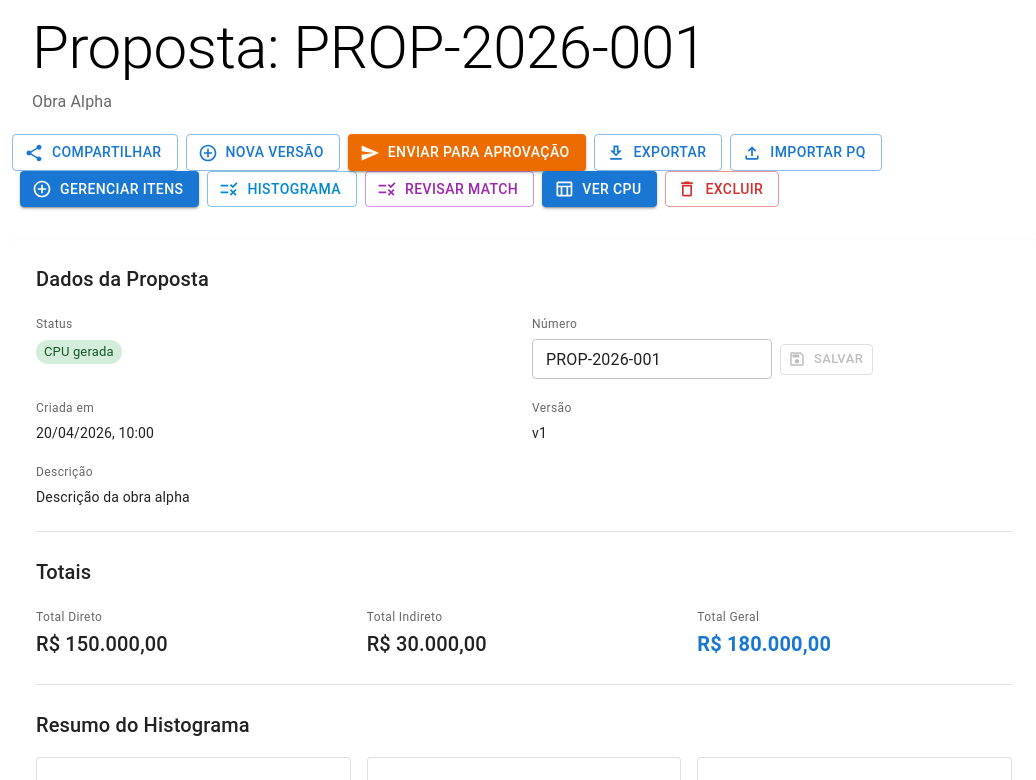
Test: ProposalDetailPage › erro de export exibe Alert/Snackbar
Expected: the heading "Proposta: PROP-2026-001" is shown, [32,12,707,84]
Click the button "Exportar": (658, 153) [594,134,722,171]
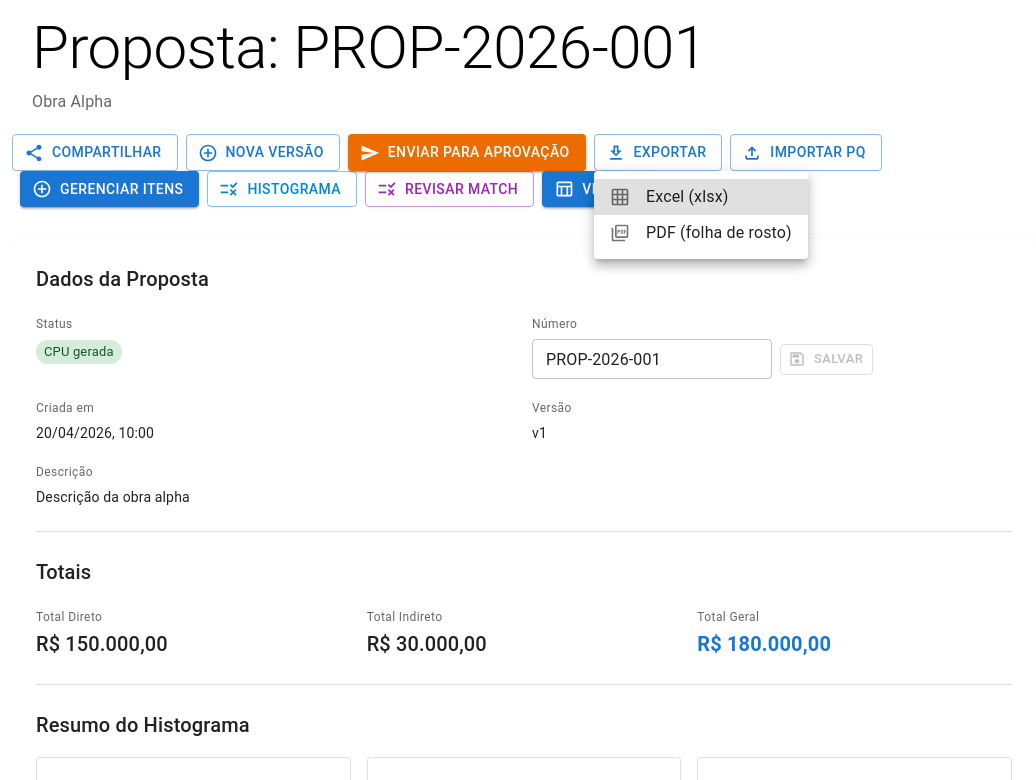
Click the menu item "Excel (xlsx)": (701, 197) [594,179,808,215]
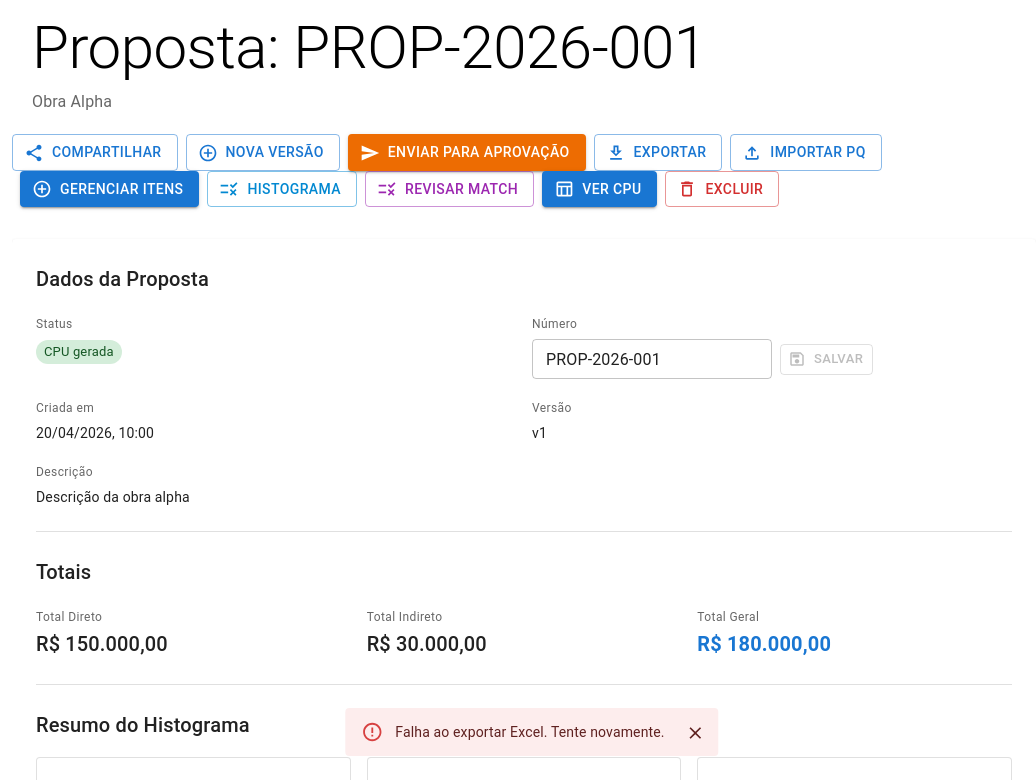
Now the text "Falha ao exportar Excel. Tente novamente." is shown, box [395,724,665,740]
